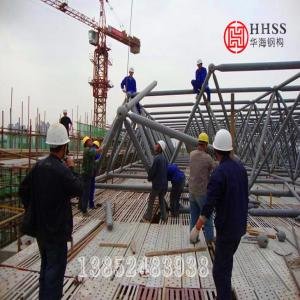white: (47, 122, 69, 160), (213, 129, 234, 161), (155, 140, 166, 156), (128, 66, 136, 77), (197, 58, 204, 70), (64, 108, 69, 117)
yellow: (197, 132, 210, 151), (82, 136, 93, 151), (94, 141, 101, 152)
